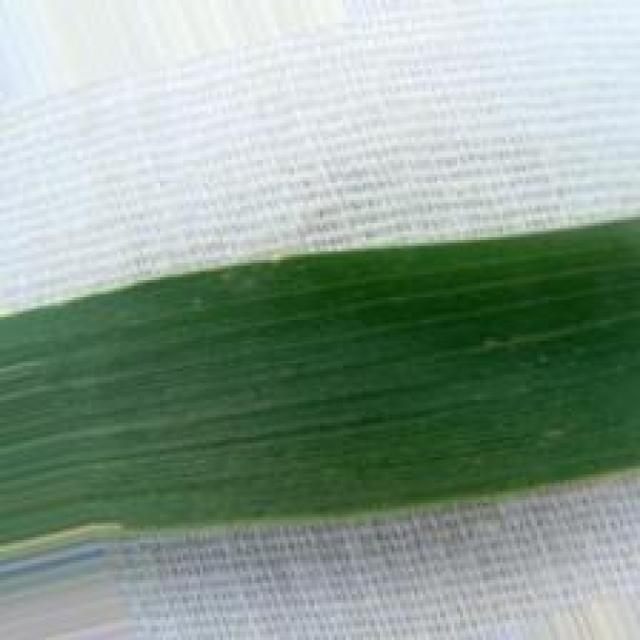Healthy: (0, 215, 640, 552)
